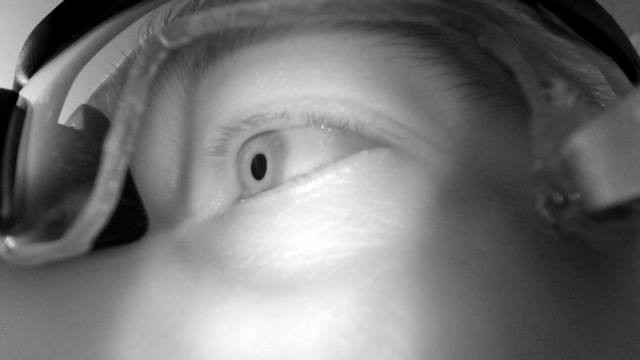pupil: (250, 153, 268, 182)
